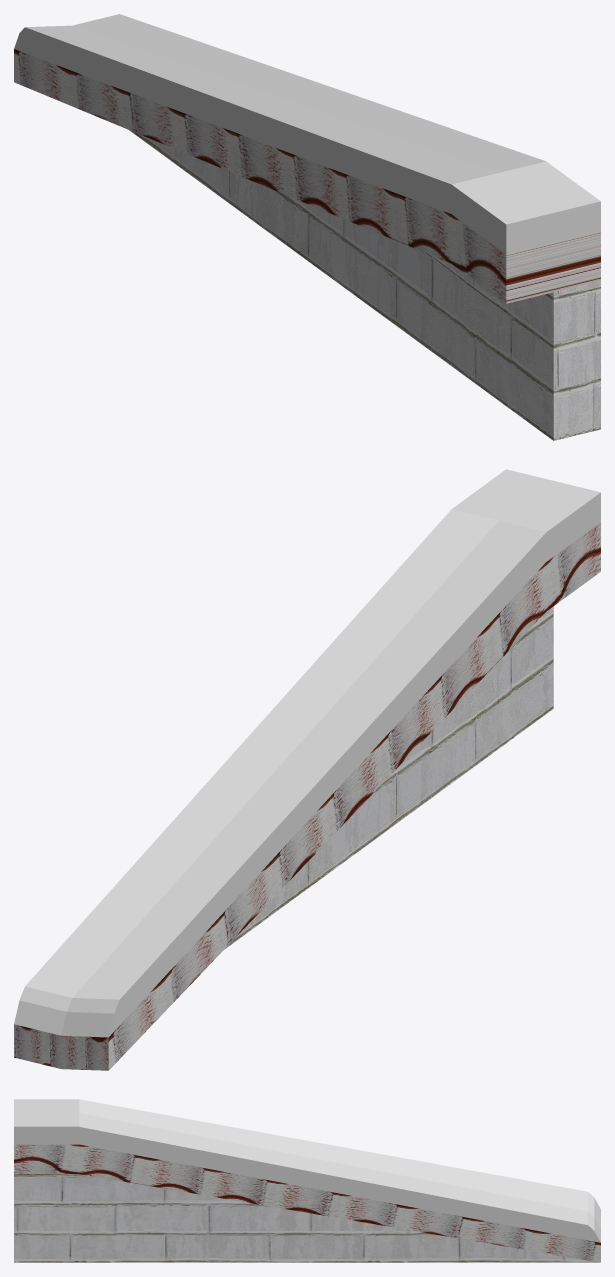
File: RoofEndcapL.fbx
3 views of the same model, one above another, from view 1: azimuth 30°, elevation 25°; view 2: azimuth 150°, elevation 25°; view 3: azimuth 270°, elevation 25° (orthographic). The views are drawn at different scales.
Parts seen in each view (by area): view 1: Cube.040; view 2: Cube.040; view 3: Cube.040.
Boxes of the visible parts, bbox=[...] form: Cube.040: bbox=[14, 14, 600, 440]; Cube.040: bbox=[14, 469, 600, 1070]; Cube.040: bbox=[14, 1099, 600, 1262].
Bounding box in the file's own units: 50 × 115 × 450.
